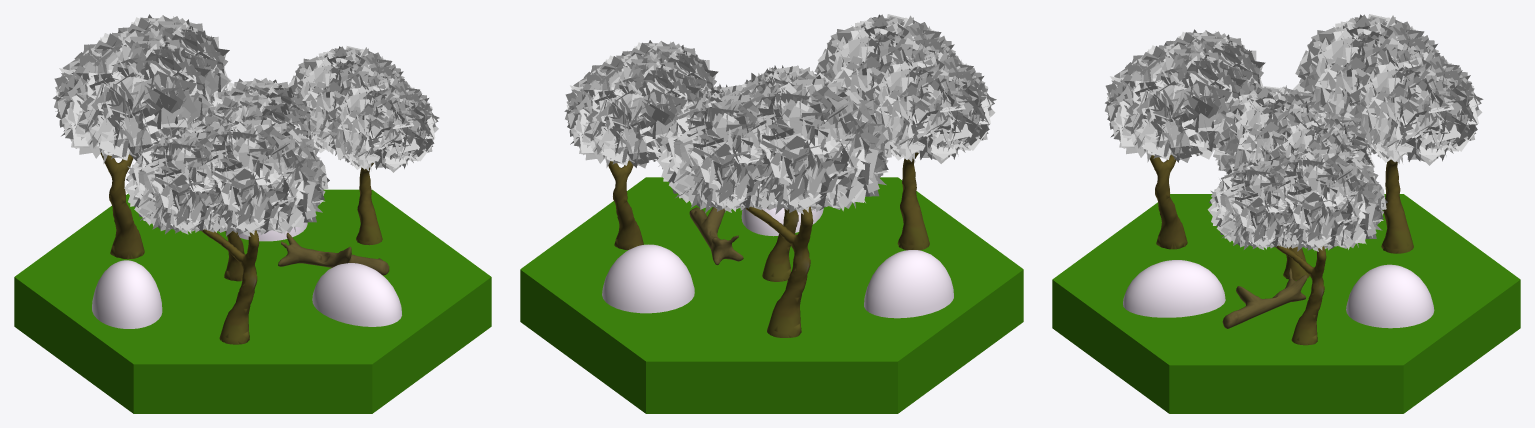
The model's file is Tuile_Foret_N3.fbx.
The picture shows the model from 3 angles, left to right: view 1: azimuth 30°, elevation 25°; view 2: azimuth 150°, elevation 25°; view 3: azimuth 270°, elevation 25°; orthographic projection. The views are drawn at different scales.
Parts seen in each view (by area): view 1: Circle, tree_LP.002, tree_LP, tree_LP.001, tree_LP.003, Sphere.001, Sphere, Cylinder.001, Sphere.002; view 2: Circle, tree_LP, tree_LP.002, tree_LP.001, Sphere.002, Sphere, tree_LP.003, Cylinder.001, Sphere.001; view 3: Circle, tree_LP, tree_LP.001, tree_LP.002, tree_LP.003, Sphere.001, Sphere.002, Cylinder.001.
Boxes of the visible parts, x1,y1,x2,y2 form: Circle: [14, 189, 491, 413]; tree_LP.002: [124, 117, 329, 344]; tree_LP: [53, 14, 231, 259]; tree_LP.001: [288, 46, 439, 245]; tree_LP.003: [187, 78, 316, 281]; Sphere.001: [312, 263, 401, 326]; Sphere: [92, 260, 162, 328]; Cylinder.001: [278, 232, 389, 275]; Sphere.002: [239, 222, 307, 241]; Circle: [520, 177, 1023, 413]; tree_LP: [657, 75, 892, 337]; tree_LP.002: [814, 14, 996, 250]; tree_LP.001: [564, 40, 718, 249]; Sphere.002: [602, 244, 694, 313]; Sphere: [864, 250, 953, 318]; tree_LP.003: [677, 65, 844, 281]; Cylinder.001: [689, 207, 743, 264]; Sphere.001: [741, 207, 823, 236]; Circle: [1052, 194, 1520, 413]; tree_LP: [1292, 14, 1483, 253]; tree_LP.001: [1207, 147, 1387, 345]; tree_LP.002: [1105, 29, 1265, 249]; tree_LP.003: [1213, 85, 1375, 280]; Sphere.001: [1123, 260, 1225, 317]; Sphere.002: [1346, 264, 1434, 328]; Cylinder.001: [1222, 268, 1307, 328].
Bounding box in the file's own units: 107 × 78.69 × 124.
